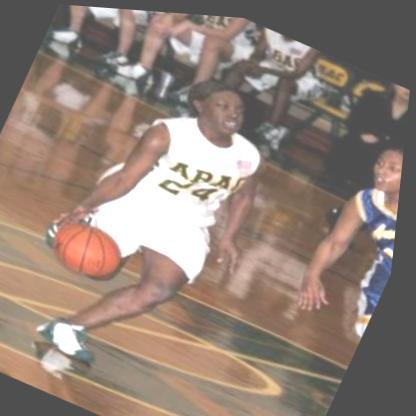basketball: (43, 198, 146, 293)
